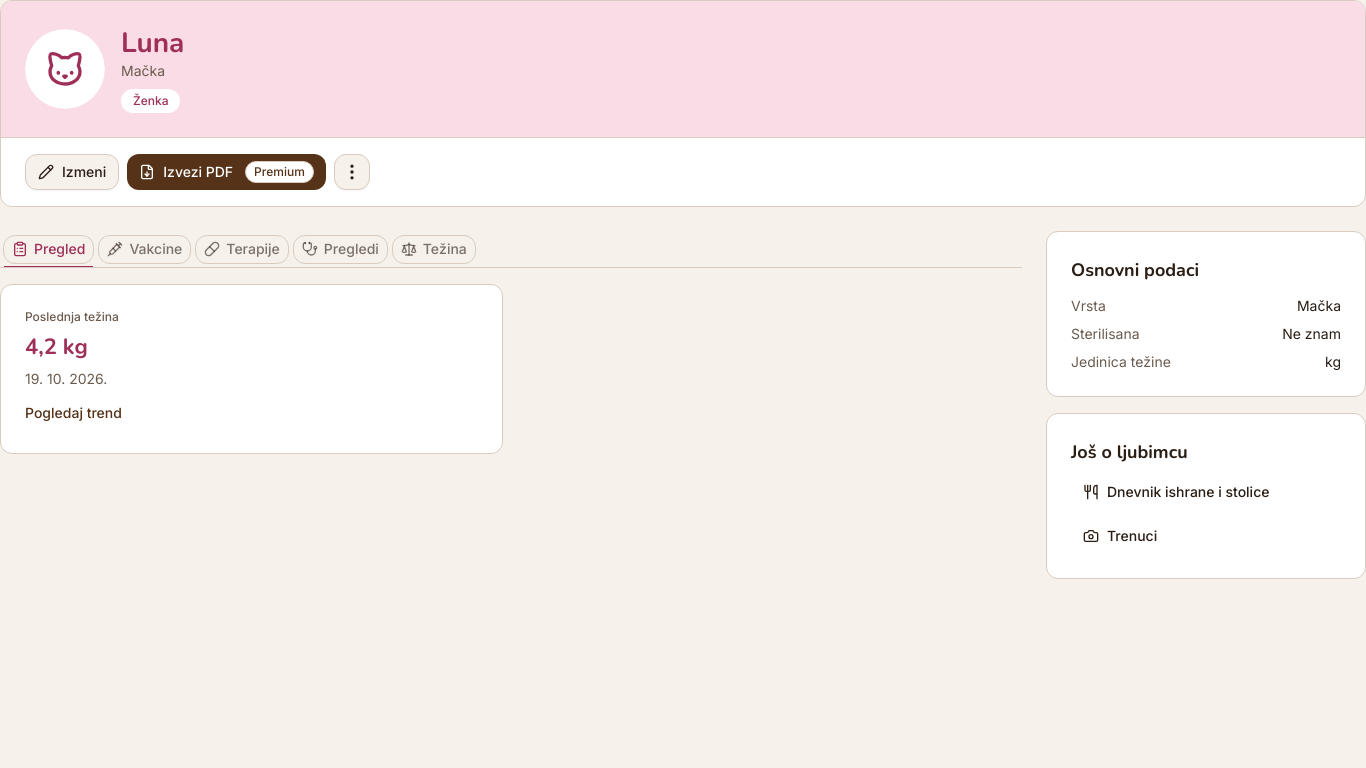
Test: EP-05 — Obriši trajno › asks for confirmation before deleting
Click the button named "Još opcija" at (352, 172), box [334,154,370,190]
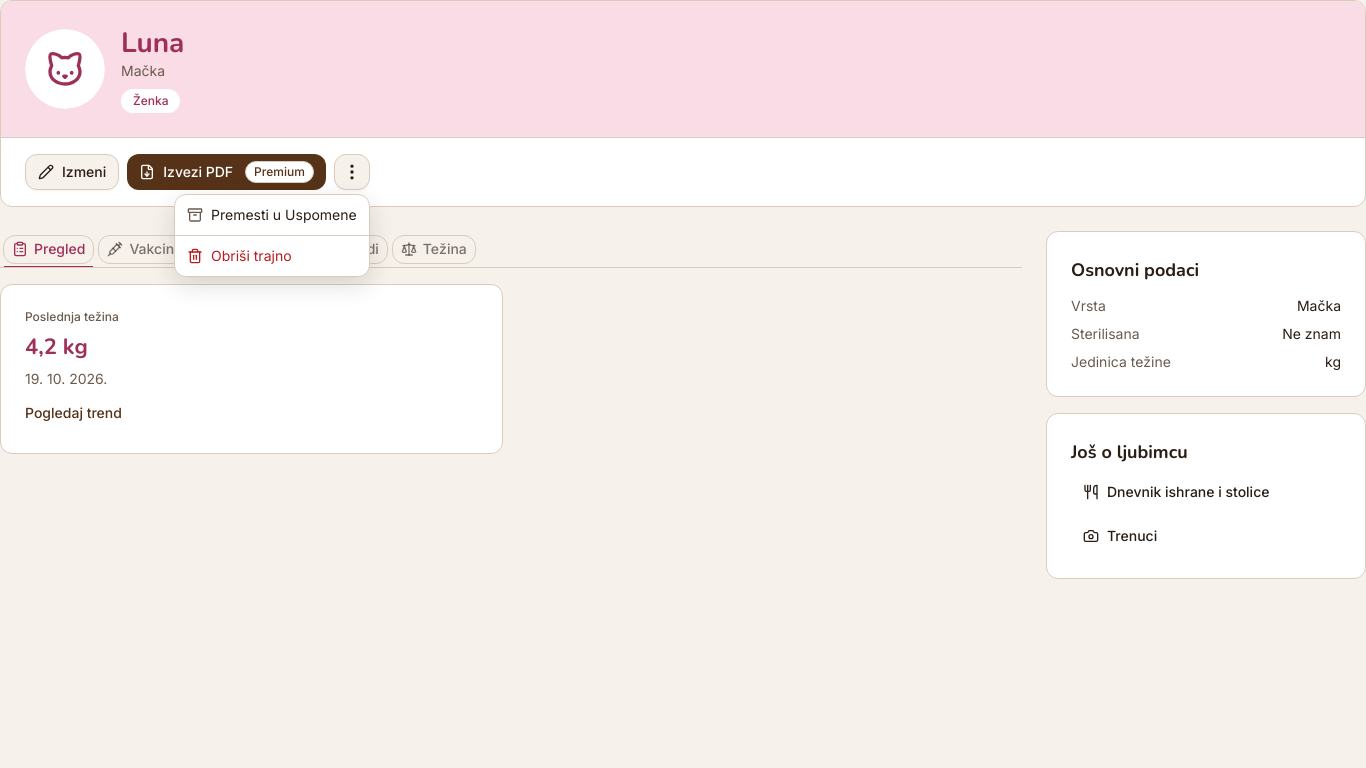
Click the menu item "Obriši trajno" at (239, 256), box [187,247,292,264]
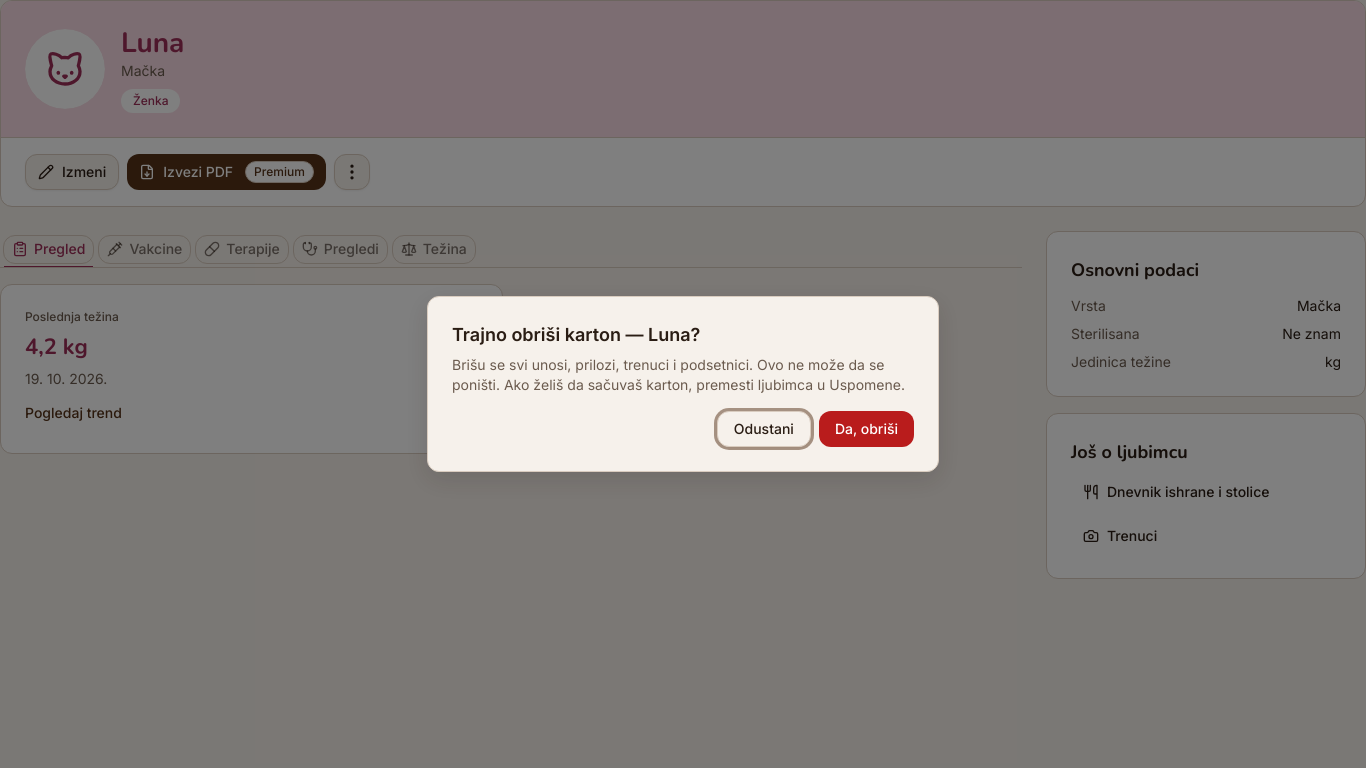
Expected: the dialog "Trajno obriši karton — Luna?" shows "Brišu se svi unosi, prilozi, trenuci i podsetnici. Ovo ne može da se poništi.", [452,356,905,393]
